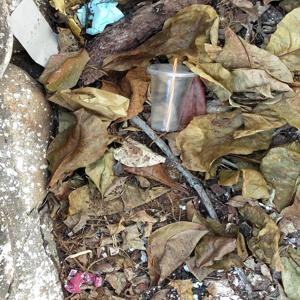cardboard: (8, 1, 69, 63)
plastic: (146, 50, 193, 134), (59, 263, 108, 288)
